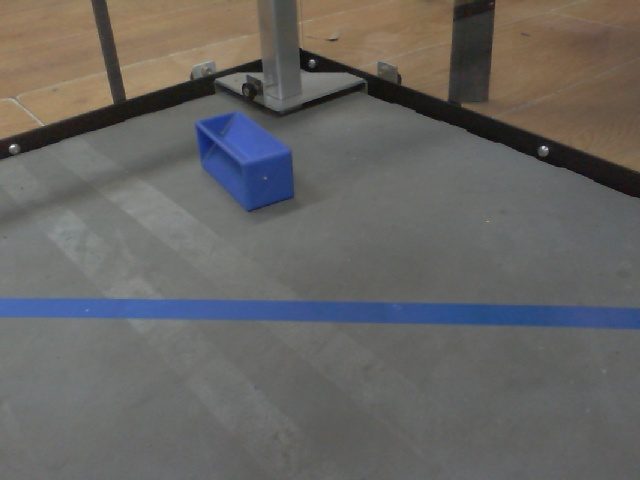BlueSample: (192, 106, 302, 216)
